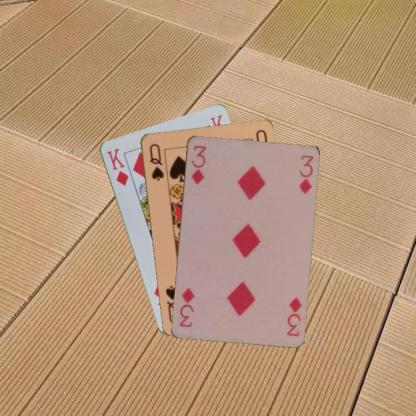3d: (188, 142, 207, 186), (284, 294, 302, 337)
Kd: (104, 145, 130, 187)
Qs: (146, 140, 165, 182)
